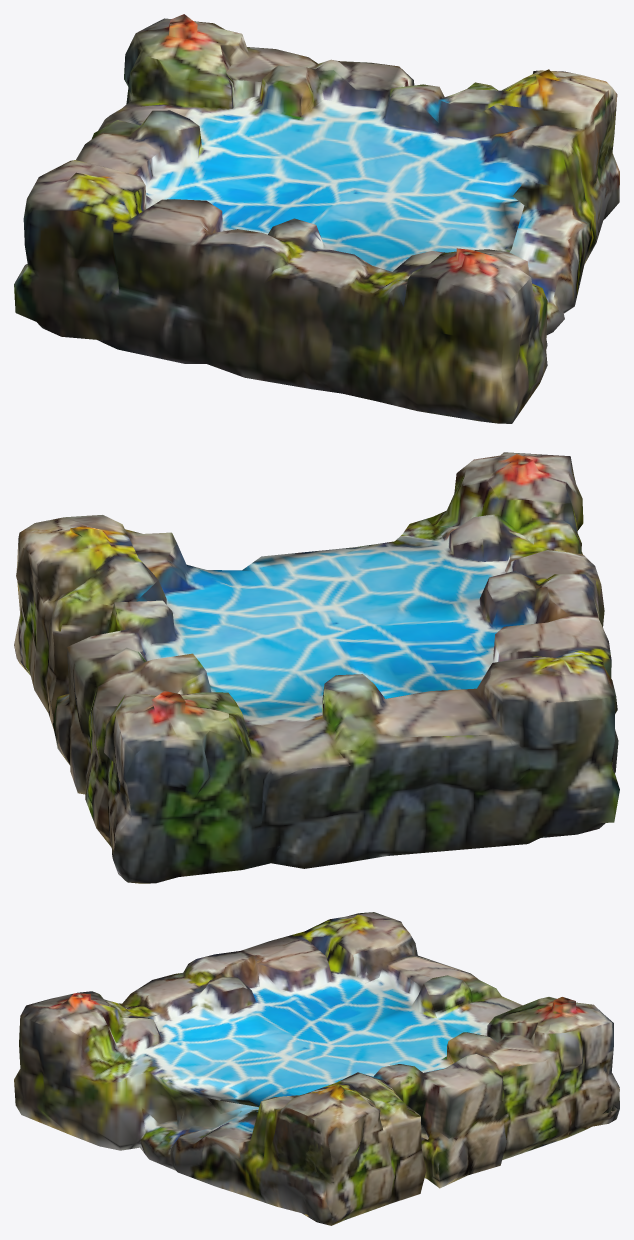
File: SummerDecor_FirstRoom_StonePool.fbx
3 views of the same model, one above another, from view 1: azimuth 30°, elevation 25°; view 2: azimuth 150°, elevation 25°; view 3: azimuth 270°, elevation 25° (orthographic). The views are drawn at different scales.
Parts seen in each view (by area): view 1: SummerDecor_FirstRoom_StonePool_Mesh; view 2: SummerDecor_FirstRoom_StonePool_Mesh; view 3: SummerDecor_FirstRoom_StonePool_Mesh.
Part boxes in pixels (left/top/right/bottom): SummerDecor_FirstRoom_StonePool_Mesh: left=14, top=14, right=619, bottom=423; SummerDecor_FirstRoom_StonePool_Mesh: left=14, top=452, right=619, bottom=883; SummerDecor_FirstRoom_StonePool_Mesh: left=14, top=912, right=619, bottom=1225.
Bounding box in the file's own units: 5.23 × 1.31 × 6.
Materials: 1 (1 with a texture image).
